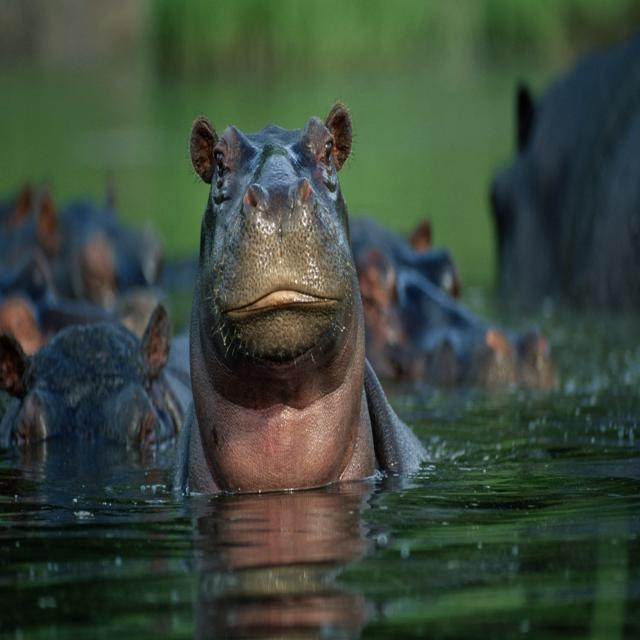hippopotamus: (176, 104, 423, 493), (0, 304, 192, 449)
